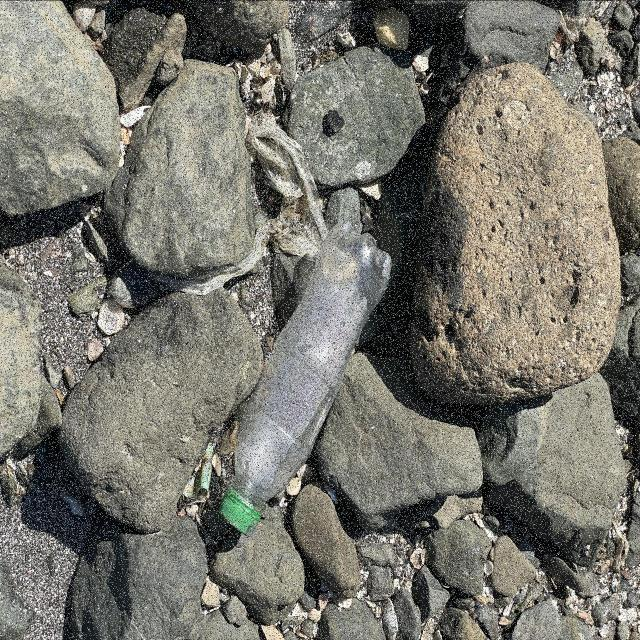plastic_waste: (218, 221, 394, 537)
